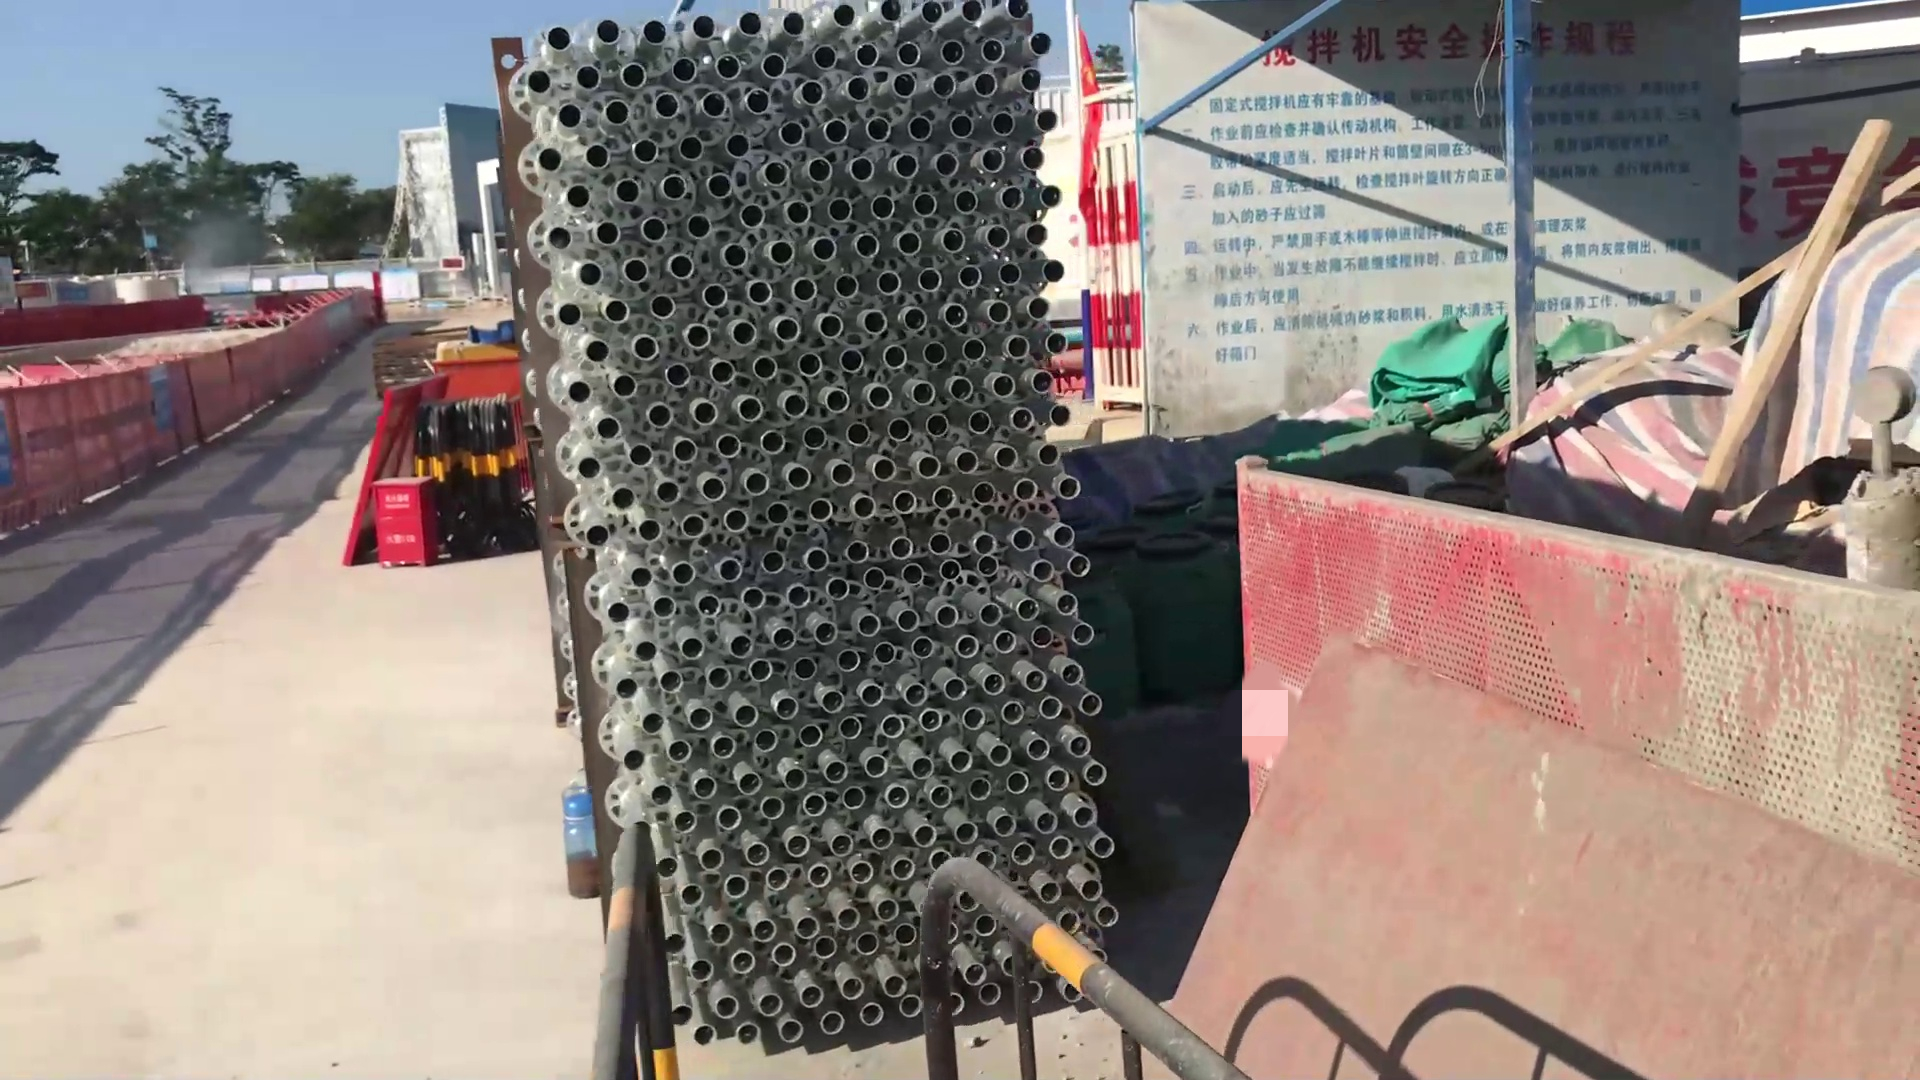fence: (1215, 458, 1920, 1080), (5, 284, 373, 524), (884, 855, 1232, 1080), (419, 392, 524, 547)
scaffold: (517, 3, 1129, 1054)
